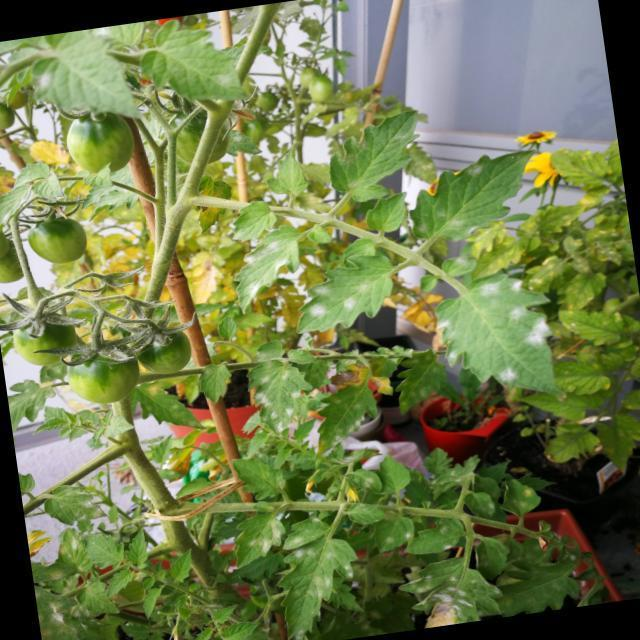Healthy Leaf: (363, 192, 412, 235), (122, 527, 154, 569), (105, 566, 136, 598), (166, 550, 196, 581), (138, 588, 166, 620), (217, 316, 241, 344)
Mosaic Virus: (437, 275, 557, 399), (273, 541, 355, 640), (412, 163, 497, 235), (302, 257, 388, 318), (231, 234, 303, 302), (418, 561, 492, 621), (251, 364, 302, 436), (46, 484, 108, 524), (36, 595, 84, 640), (238, 519, 284, 562), (282, 516, 322, 548), (376, 521, 418, 550), (422, 522, 459, 554), (468, 492, 500, 520), (510, 485, 538, 514)
